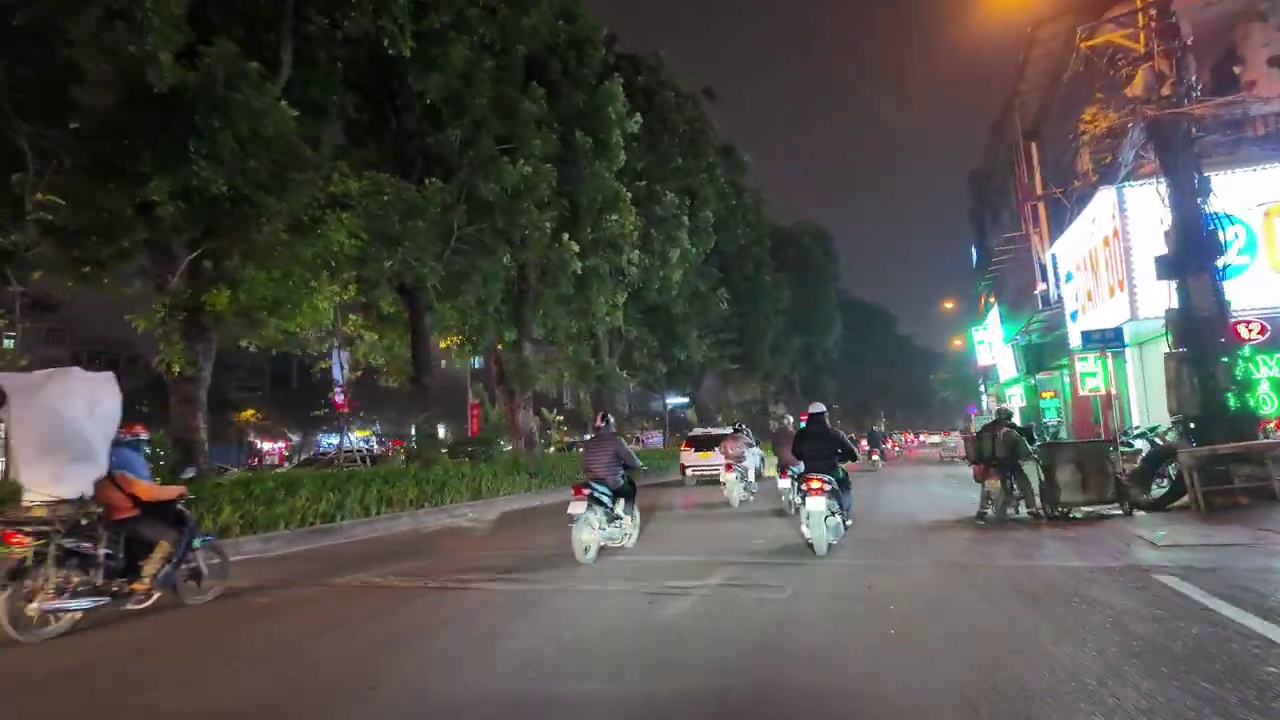acesa: (937, 295, 959, 316)
